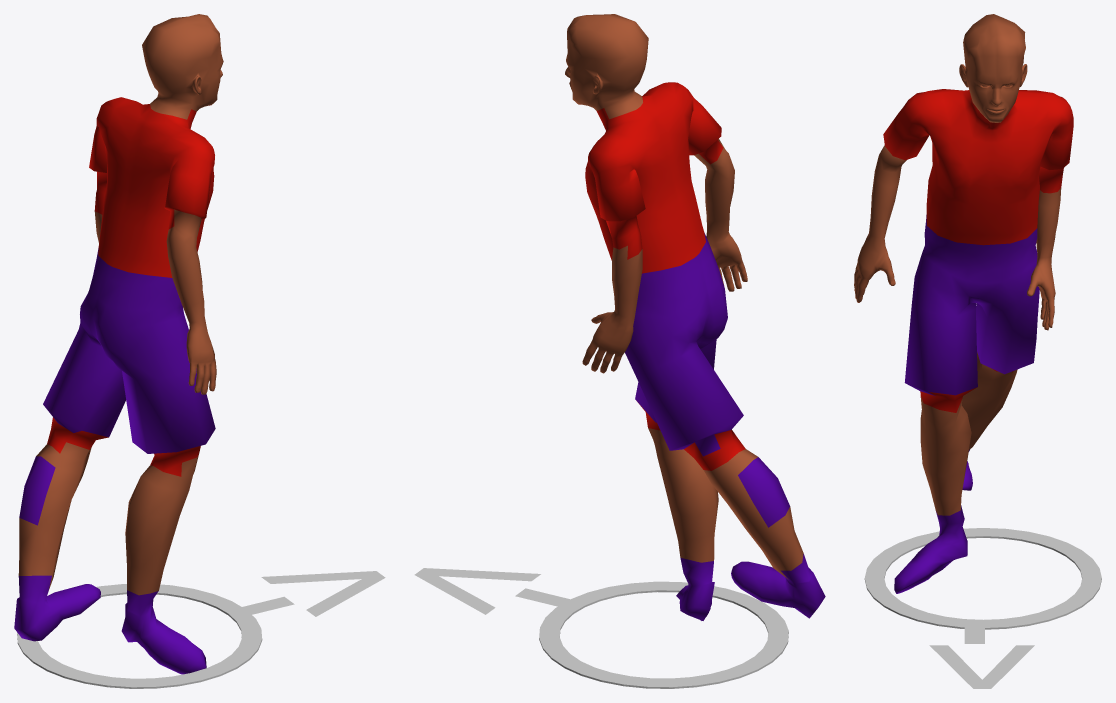
File: player_000024.obj
3 views of the same model, side by side, from view 1: azimuth 30°, elevation 25°; view 2: azimuth 150°, elevation 25°; view 3: azimuth 270°, elevation 25° (orthographic). The views are drawn at different scales.
Visible parts, largest first — view 1: soccerplayer.002_mesh.003, Circle, Text.001_Mesh.001; view 2: soccerplayer.002_mesh.003, Circle, Text.001_Mesh.001; view 3: soccerplayer.002_mesh.003, Circle, Text.001_Mesh.001.
Boxes of the visible parts, box(x1,y1,x2,y2) form: soccerplayer.002_mesh.003: box(14, 14, 223, 674); Circle: box(17, 584, 262, 688); Text.001_Mesh.001: box(237, 571, 385, 616); soccerplayer.002_mesh.003: box(565, 14, 825, 620); Circle: box(539, 581, 788, 688); Text.001_Mesh.001: box(414, 568, 573, 614); soccerplayer.002_mesh.003: box(854, 14, 1073, 593); Circle: box(864, 528, 1101, 629); Text.001_Mesh.001: box(929, 621, 1034, 688).
Bounding box in the file's own units: 1.94 × 2.98 × 1.14.
